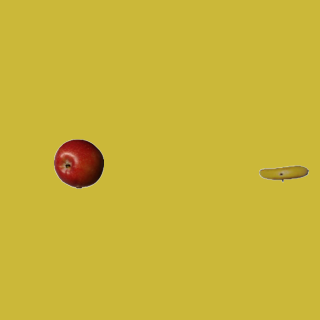Apple Braeburn: (53, 138, 103, 188)
Banana: (258, 148, 308, 198)
